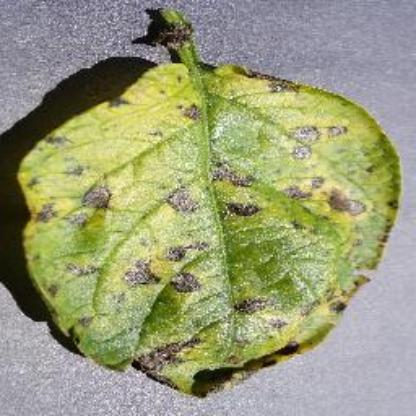Early-Blight: (16, 7, 410, 398)
